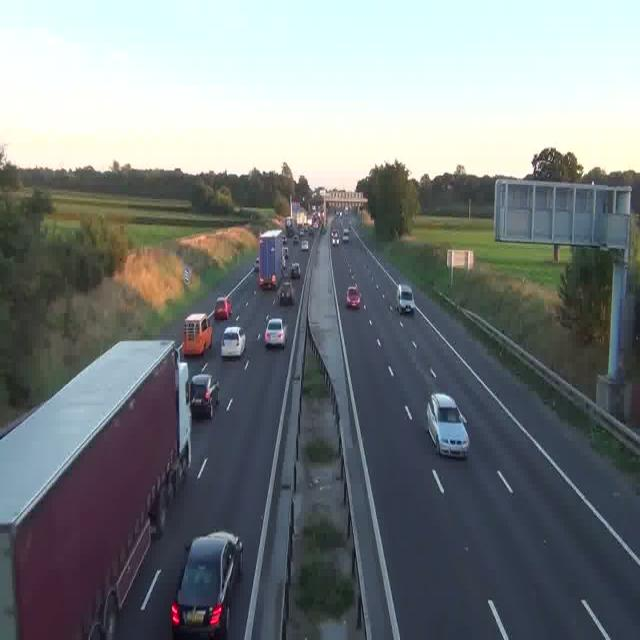car: (172, 531, 242, 638), (427, 393, 468, 457), (189, 372, 219, 418), (182, 312, 212, 355), (220, 324, 246, 356), (265, 318, 286, 347), (395, 284, 414, 314), (212, 297, 232, 320), (345, 284, 361, 308), (280, 283, 294, 305), (289, 262, 301, 279), (283, 249, 291, 262), (301, 239, 309, 250), (331, 234, 339, 245), (307, 226, 315, 237)
truck: (0, 339, 192, 640), (260, 229, 282, 290), (287, 210, 299, 237)
